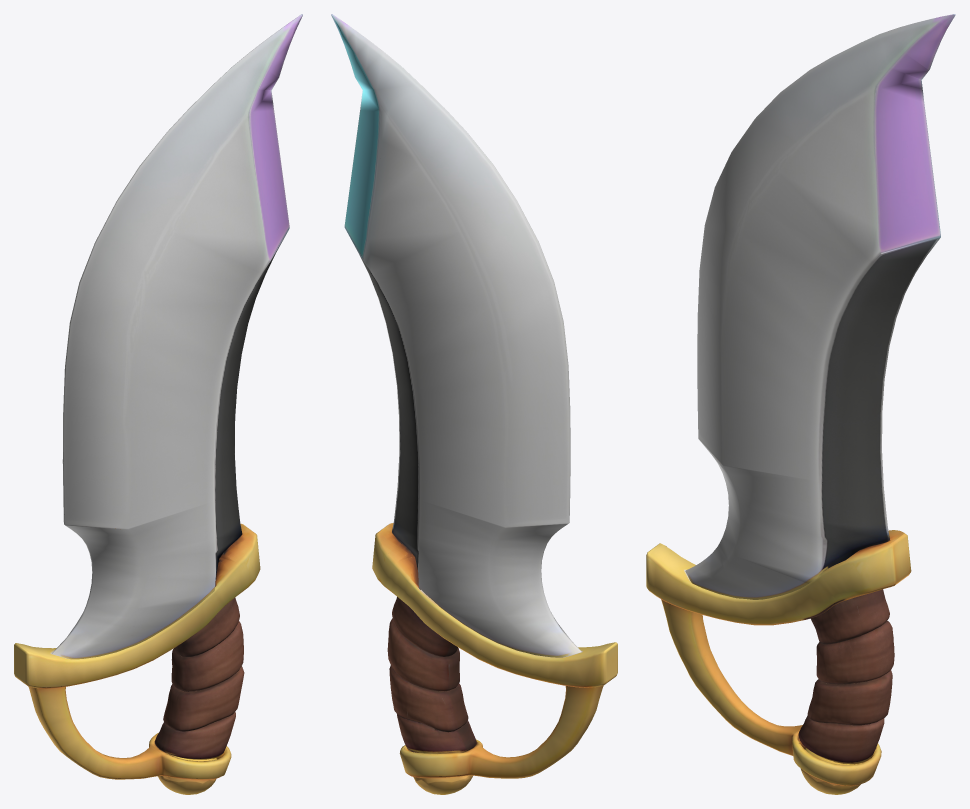
The model's file is Arme 1.glb.
3 views of the same model, side by side, from view 1: azimuth 30°, elevation 25°; view 2: azimuth 150°, elevation 25°; view 3: azimuth 330°, elevation 25° (orthographic). The views are drawn at different scales.
Visible parts, largest first — view 1: tripo_node_8da22f08-f008-44df-b714-91c33b57e75c; view 2: tripo_node_8da22f08-f008-44df-b714-91c33b57e75c; view 3: tripo_node_8da22f08-f008-44df-b714-91c33b57e75c.
Boxes of the visible parts, x1,y1,x2,y2 form: tripo_node_8da22f08-f008-44df-b714-91c33b57e75c: (14, 14, 302, 794); tripo_node_8da22f08-f008-44df-b714-91c33b57e75c: (331, 14, 617, 794); tripo_node_8da22f08-f008-44df-b714-91c33b57e75c: (646, 14, 955, 794).
Size of the model in its own units: 0.3931 by 0.9995 by 0.103.
Materials: 1 (1 with a texture image).
